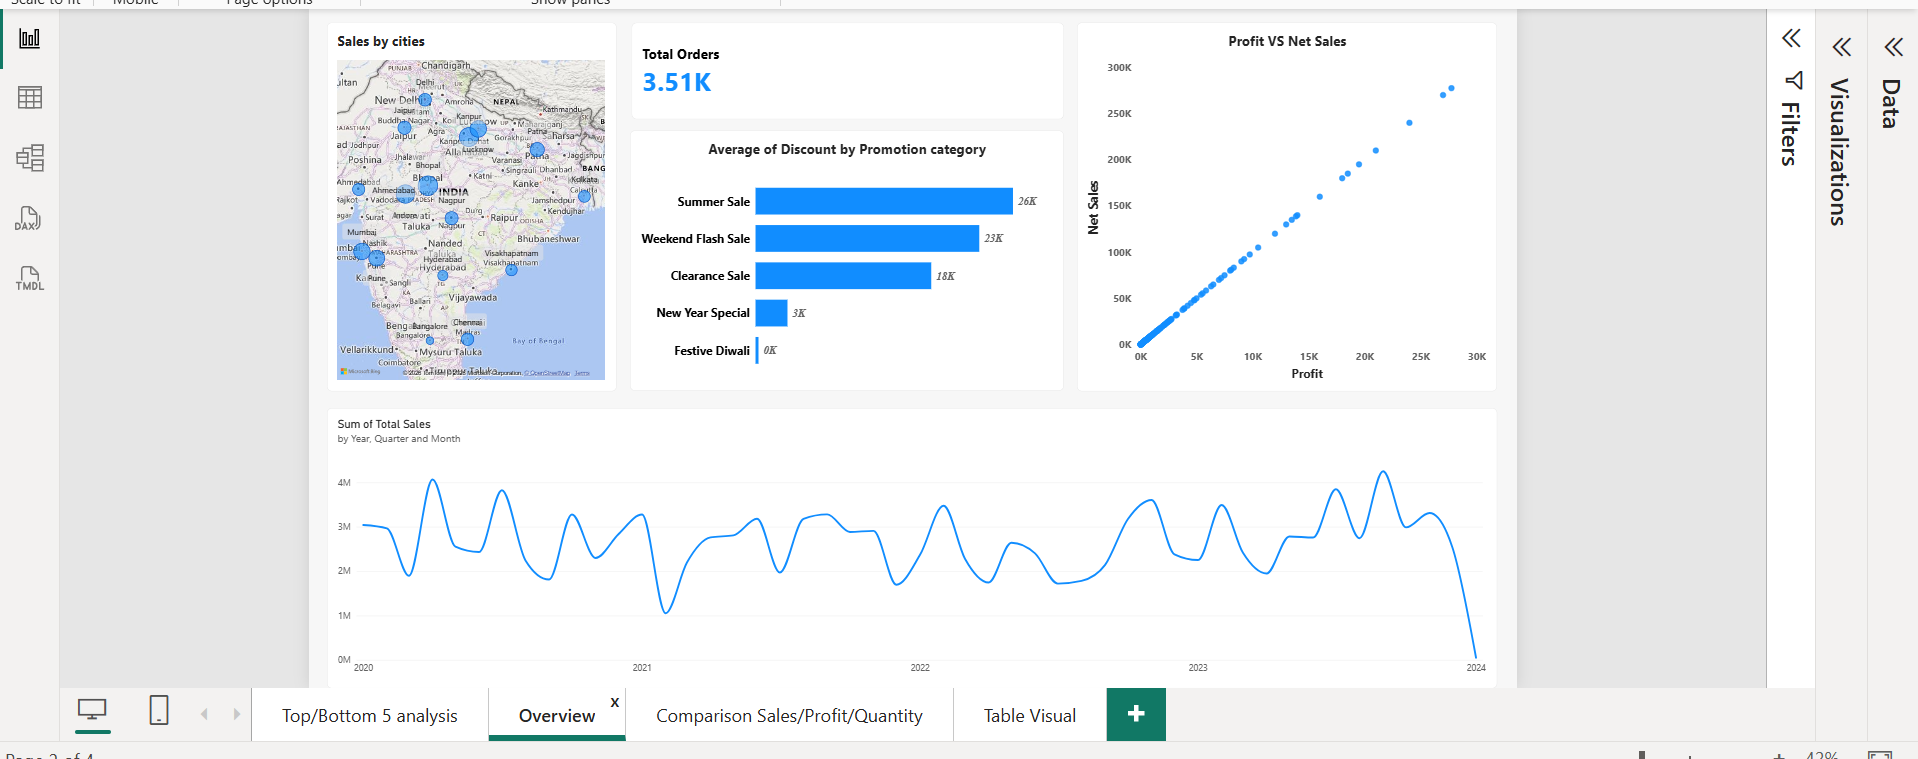

The page's visual inventory and layout, read from the dashboard file:
{"tool":"powerbi","page":{"name":"Overview","canvas":[1920,1080],"ordinal":1},"visuals":[{"type":"lineChart","title":"Total Sales over time","fields":{"Category":["Fact Table.Date (dd/mm/yyyy).Variation.Date Hierarchy.Year"],"Y":["Sum(Fact Table.Total Sales )"]},"box":[28.9,631.6,1860.5,428.9],"z":0},{"type":"scatterChart","title":"Profit VS Net Sales ","fields":{"X":["Fact Table.Profit"],"Y":["Fact Table.Net Sales "]},"box":[1221.6,21.5,668.1,586.9],"z":1000},{"type":"barChart","title":"Average of Discount by Promotion category","fields":{"Category":["Dim Promotion.Promotion Name"],"Y":["Avg(Fact Table.Discount)"]},"box":[510,194,690,414],"z":2000},{"type":"map","title":"Sales by cities","fields":{"Category":["Dim Customers.City"],"Size":["Sum(Fact Table.Total Sales )"]},"box":[28.6,21.5,460.5,586.9],"z":3000},{"type":"cardVisual","fields":{"Data":["Count(Fact Table.Order ID)"]},"box":[512,22,688,154],"z":4000}]}

Visuals, with their boxes on the page's 1920x1080 design canvas (x1, y1, x2, y2). These are canvas units, not pixel positions in the 1918x759 screenshot, which may show the page scaled, cropped or inside an application window:
"Total Sales over time" lineChart: [29,632,1889,1060]
"Profit VS Net Sales " scatterChart: [1222,22,1890,608]
"Average of Discount by Promotion category" barChart: [510,194,1200,608]
"Sales by cities" map: [29,22,489,608]
cardVisual - Count(Fact Table.Order ID): [512,22,1200,176]
